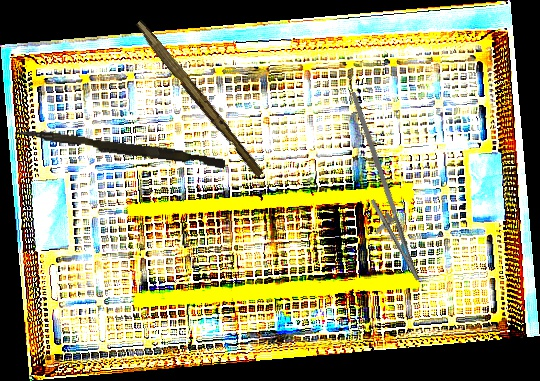Needle Holder: (315, 91, 442, 288)
Pusher: (16, 128, 227, 169)
Scalpel Handle: (130, 19, 268, 179)
